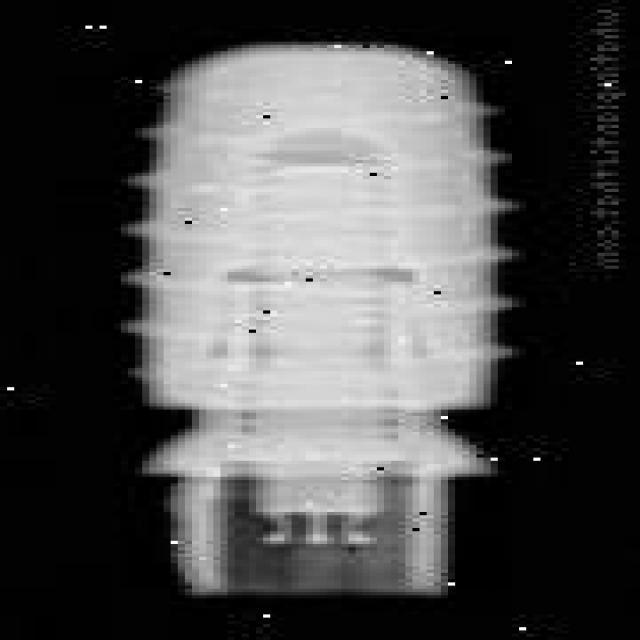Root canal obturation: (121, 42, 519, 595)
